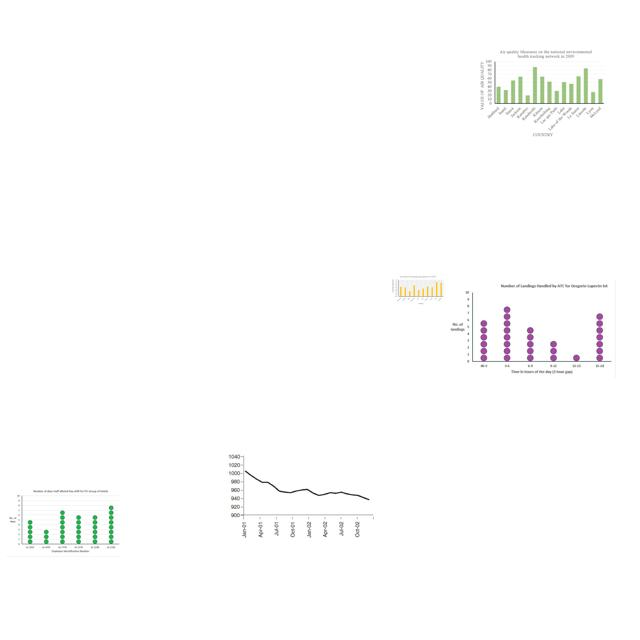Graph: (446, 280, 616, 378), (227, 451, 376, 542), (478, 48, 607, 138), (6, 487, 121, 557), (391, 274, 445, 306)
